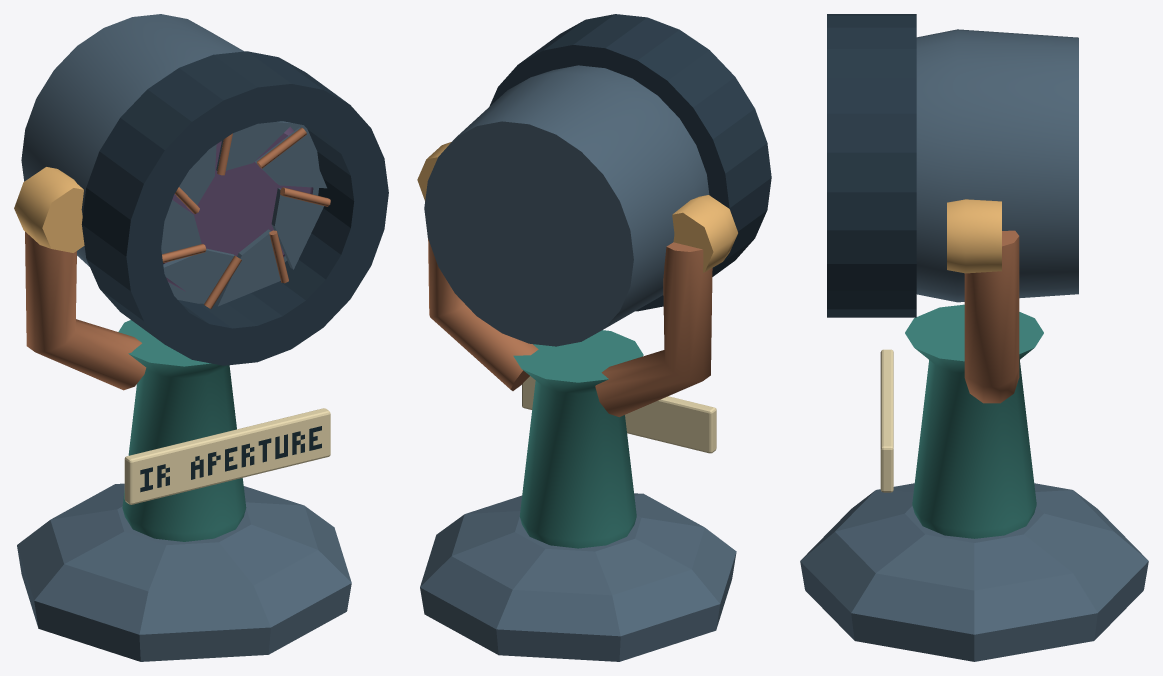
3 views of the same model, side by side, from view 1: azimuth 30°, elevation 25°; view 2: azimuth 150°, elevation 25°; view 3: azimuth 270°, elevation 25° (orthographic). The views are drawn at different scales.
Parts seen in each view (by area): view 1: PR095 enamel and hardware; view 2: PR095 enamel and hardware; view 3: PR095 enamel and hardware.
Boxes of the visible parts, x1=… form: PR095 enamel and hardware: x1=14, y1=14, x2=388, y2=661; PR095 enamel and hardware: x1=417, y1=14, x2=771, y2=661; PR095 enamel and hardware: x1=800, y1=14, x2=1148, y2=661.
Size of the model in its own units: 0.5814 by 0.979 by 0.55.
